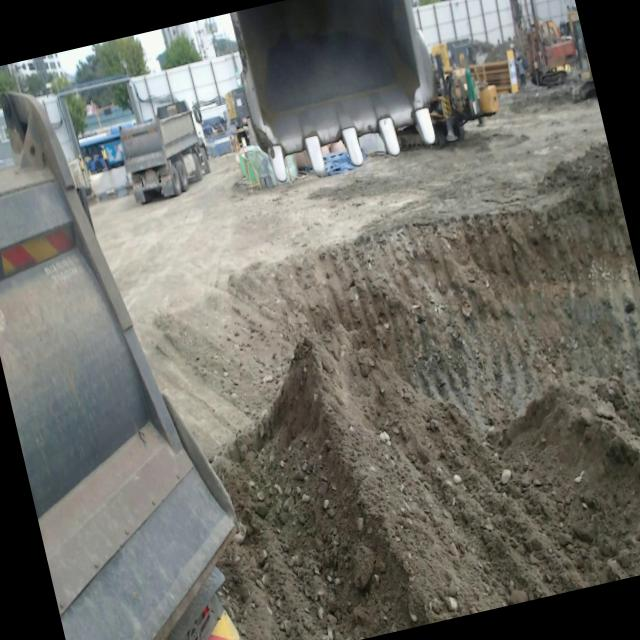white-sand: (96, 92, 640, 640)
